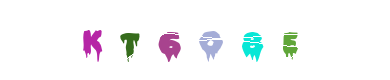6: (155, 0, 235, 80)
8: (212, 0, 292, 80)
E: (231, 0, 311, 80)
K: (90, 0, 170, 80)
O: (159, 0, 239, 80)
T: (94, 0, 174, 80)
